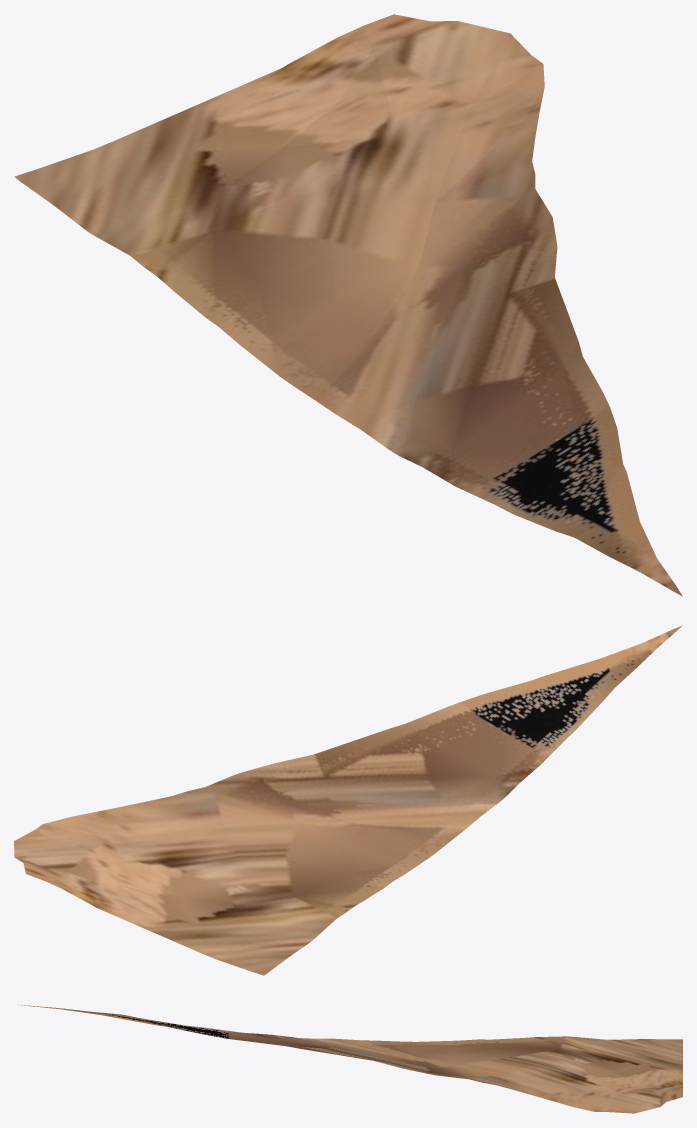
The picture shows the model from 3 angles, top to bottom: view 1: azimuth 30°, elevation 25°; view 2: azimuth 150°, elevation 25°; view 3: azimuth 270°, elevation 25°; orthographic projection. The views are drawn at different scales.
Bounding box in the file's own units: 0.5895 × 0.0943 × 1.53.
1 material, 1 textured.
